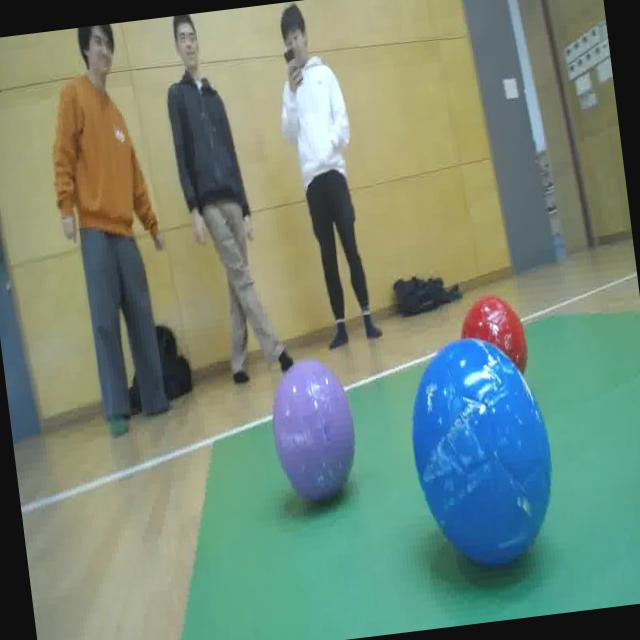blue_ball: (402, 333, 568, 589)
purple_ball: (262, 357, 358, 497)
red_ball: (450, 278, 536, 399)
